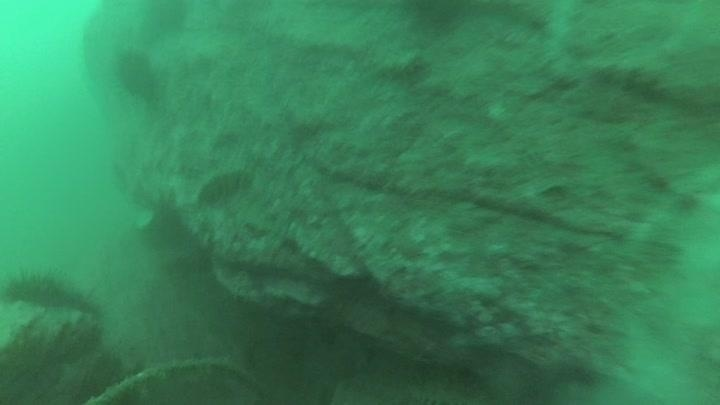echinus: (2, 265, 74, 312), (111, 45, 159, 101)
holothurian: (195, 165, 254, 206), (372, 48, 432, 85)
